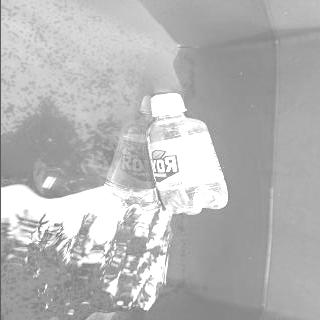bottle: (146, 92, 230, 216)
